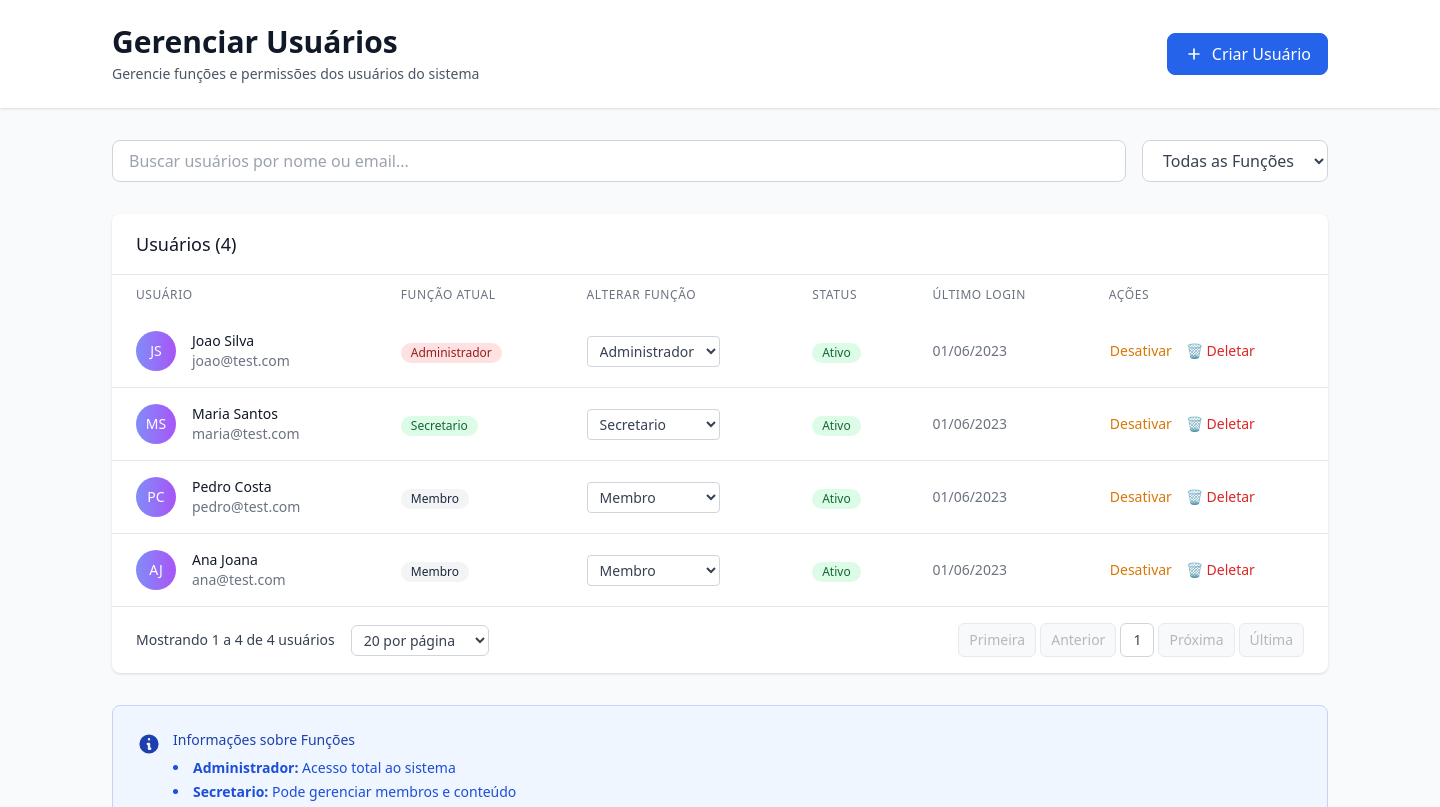
Test: UserManagementPage › Filtering › should filter users by role
expect the text "Joao Silva" is shown: met, box [192, 331, 254, 350]
// Find role filter select
Select "Administrador" in the 1st dropdown at x=1235, y=161, box [1142, 140, 1328, 182]
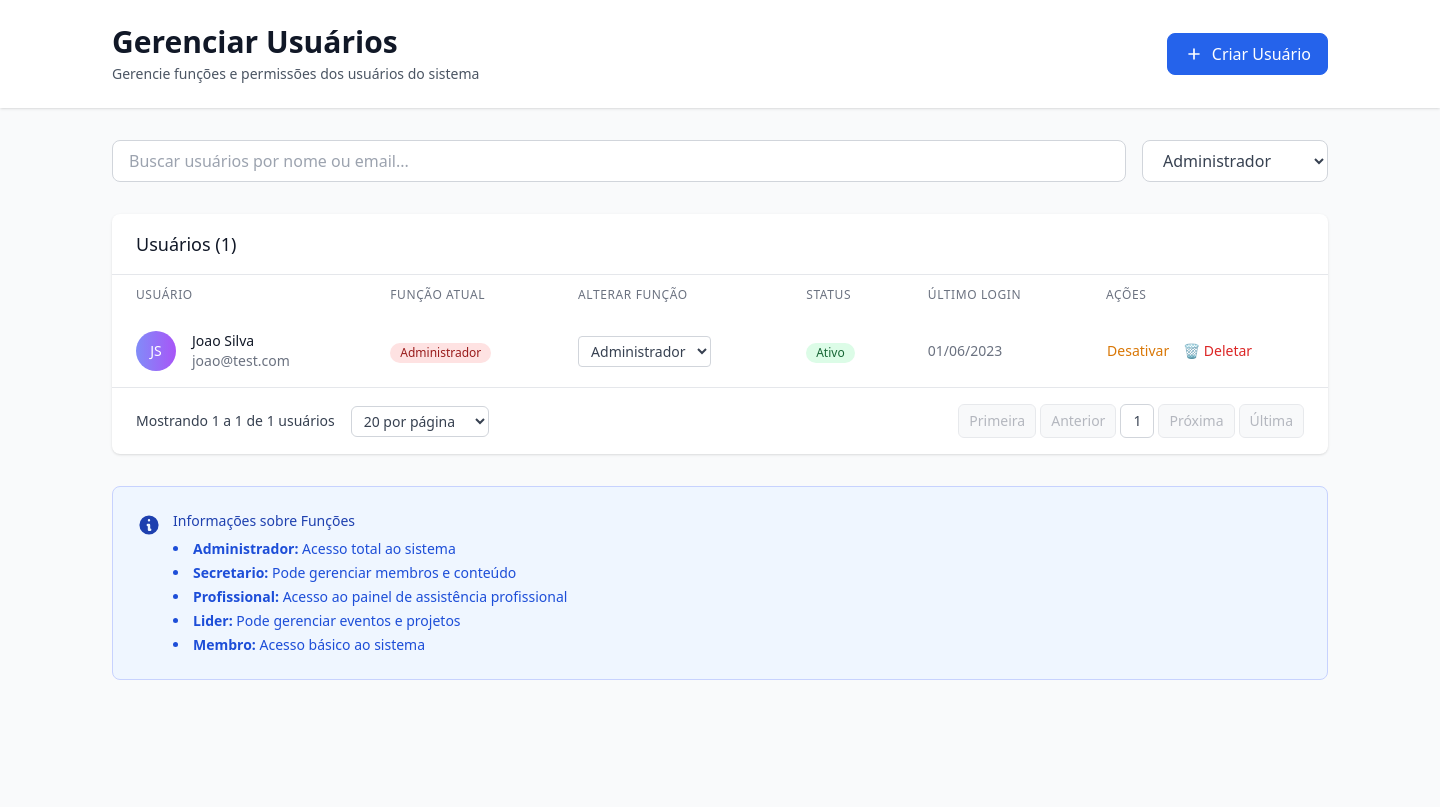
expect the text "Joao Silva" is shown: met, box [192, 331, 254, 350]
expect the text "Maria Santos" is gone: met
expect the text "Pedro Costa" is gone: met
